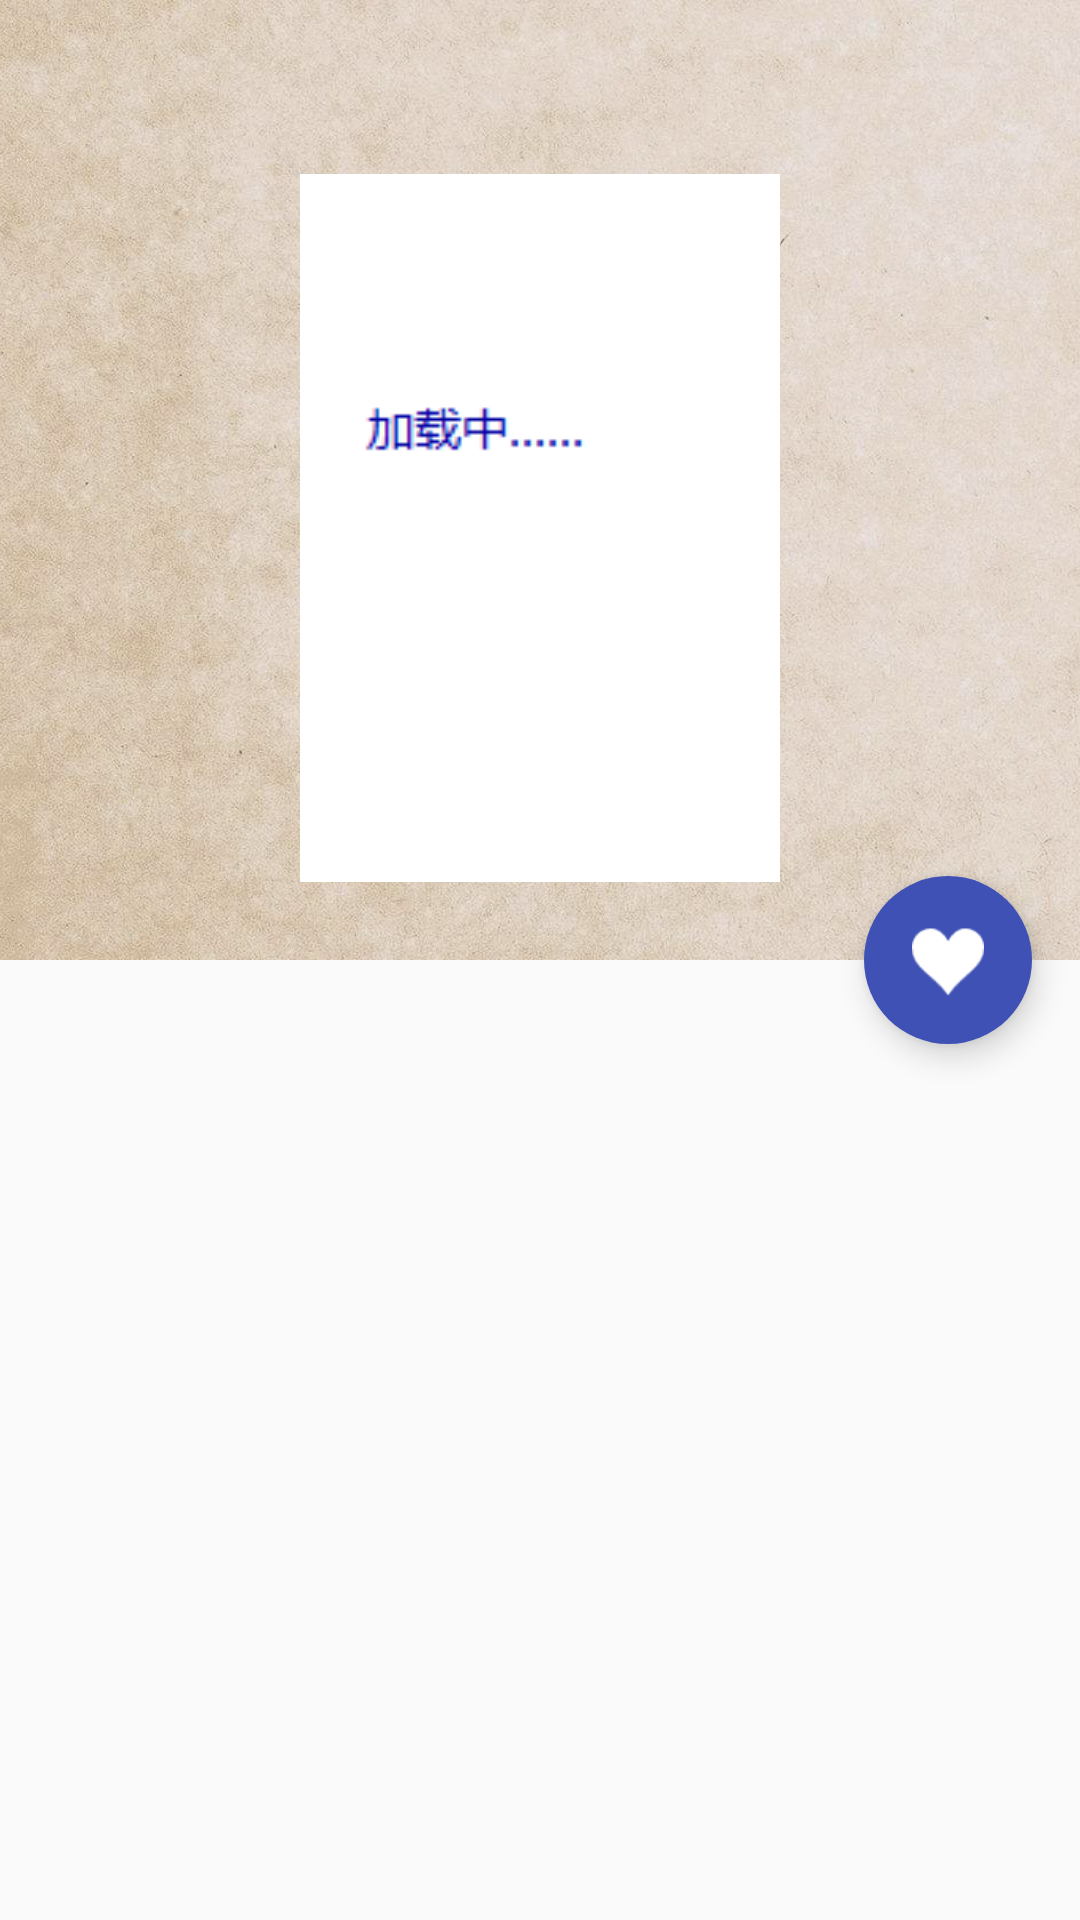

Point at icon controls on the screen. Image size 1080px x 1920px, points as [x,y].
heart: [948,960]
